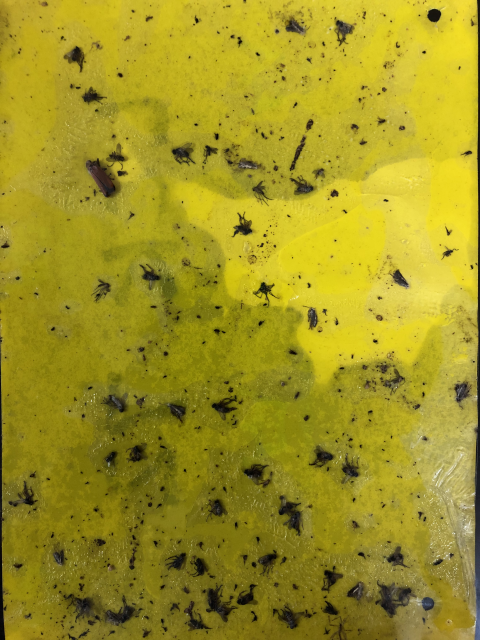DBM: (158, 400, 187, 424), (281, 15, 311, 36), (452, 379, 472, 410), (344, 579, 366, 602), (387, 267, 409, 289), (303, 304, 320, 332), (236, 154, 262, 172), (52, 549, 65, 567)
